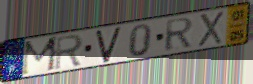0: (127, 23, 153, 57)
M: (20, 34, 61, 78)
R: (53, 33, 85, 72), (164, 16, 195, 53)
V: (94, 25, 123, 64)
X: (197, 10, 225, 48)
